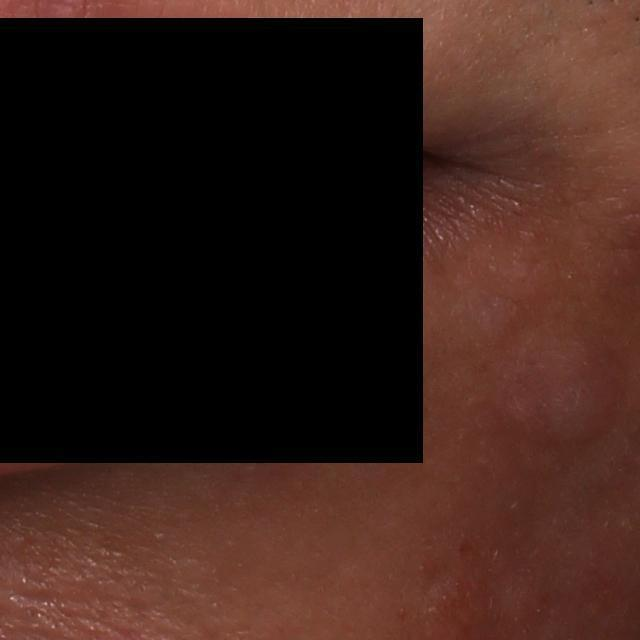nodule: (467, 324, 638, 469)
